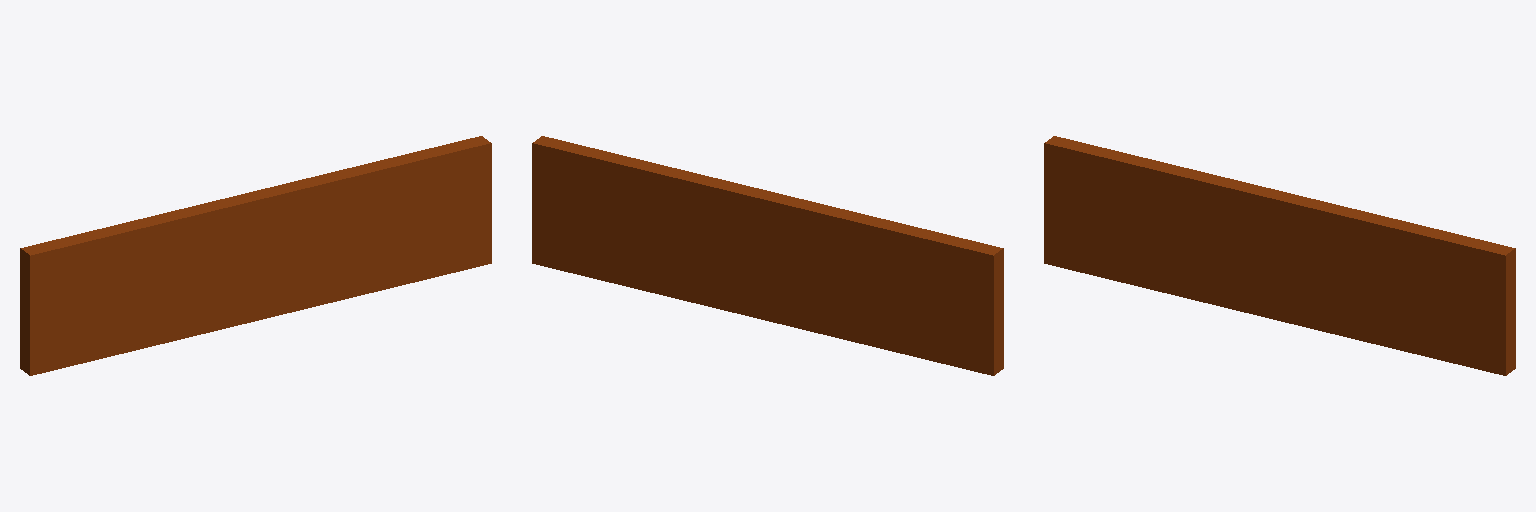
robot.urdf — obj_model:
<?xml version="1.0" ?>
<robot name="obj_model">

  <!-- Link that contains the object -->
  <link name="obj_link">
    <!-- Visual Shape: 3D mesh from the .obj file -->
    <visual>
      <geometry>
        <mesh filename="planche.obj"/>  <!-- Path to the .obj file -->
      </geometry>
      <material name="default_material">
        <color rgba="0.6 0.3 0.1 1"/>  <!-- You can set the default color if no texture is available -->
      </material>
    </visual>
    
    <!-- Collision Shape: Mesh for collision -->
    <collision>
      <geometry>
        <mesh filename="planche.obj"/>  <!-- Path to the .obj file -->
      </geometry>
    </collision>
    
    <!-- Inertial properties: Mass and Inertia -->
    <inertial>
      <mass value="1.0"/>  <!-- You can adjust the mass as per your object -->
      <inertia ixx="0.1" ixy="0" ixz="0" iyy="0.1" iyz="0" izz="0.1"/> <!-- Adjust inertia -->
    </inertial>
  </link>

</robot>

--- Facts derived from the render (not from the file) ---
Views: 3 orthographic renders of the robot side by side, from view 1: azimuth 30°, elevation 25°; view 2: azimuth 150°, elevation 25°; view 3: azimuth 330°, elevation 25°.
Model obj_model with 1 links and 0 joints (none), rooted at obj_link, posed every joint at zero.
Visible links, largest first — view 1: obj_link; view 2: obj_link; view 3: obj_link.
Link boxes in pixels (x1,y1,x2,y2): obj_link: (20,136,491,375); obj_link: (532,136,1003,375); obj_link: (1044,136,1515,375).
Bounding box of the posed robot: 0.4 × 0.015 × 0.1 m (x, y, z).
1 mesh visuals loaded from 1 distinct referenced files (1 OBJ).